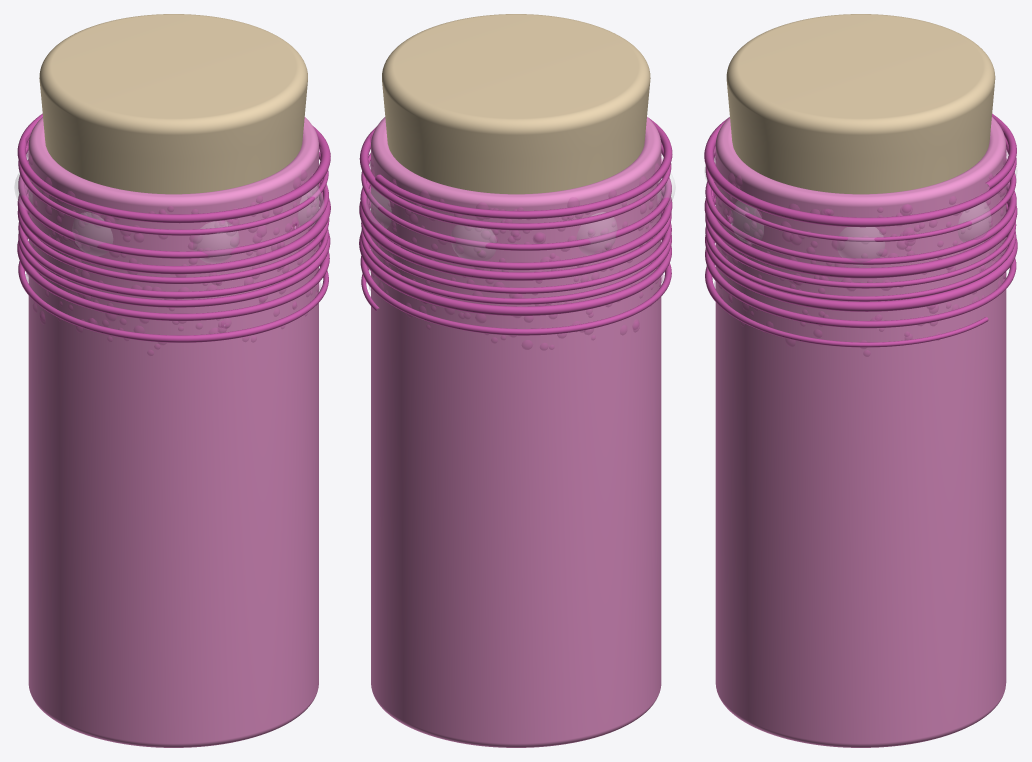
The model's file is jar_magenta_gold.glb.
3 renders of one model, left to right at view 1: azimuth 30°, elevation 25°; view 2: azimuth 150°, elevation 25°; view 3: azimuth 270°, elevation 25°, orthographic.
Visible parts, largest first — view 1: body, cork, lines, frit, marbles; view 2: body, cork, lines, frit, marbles; view 3: body, cork, lines, frit, marbles.
Boxes of the visible parts, x1,y1,x2,y2 form: body: [28, 117, 318, 747]; cork: [39, 14, 307, 250]; lines: [17, 113, 330, 342]; frit: [25, 134, 322, 355]; marbles: [14, 173, 324, 263]; body: [371, 117, 661, 747]; cork: [382, 14, 650, 252]; lines: [359, 117, 672, 335]; frit: [369, 134, 663, 350]; marbles: [365, 174, 675, 260]; body: [715, 117, 1006, 747]; cork: [726, 14, 995, 194]; lines: [704, 113, 1017, 347]; frit: [713, 126, 1008, 356]; marbles: [704, 151, 1017, 265].
Size of the model in its own units: 0.0479 by 0.104 by 0.0475.
